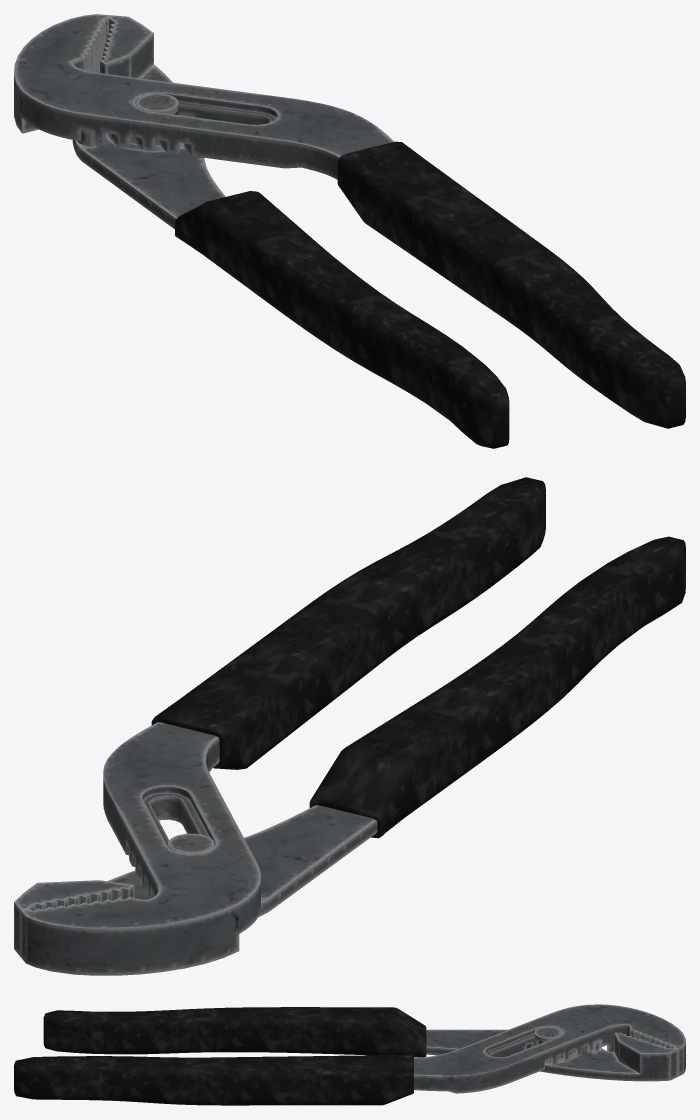
Rendered from tongue_groove_pliers.glb.
The picture shows the model from 3 angles, top to bottom: view 1: azimuth 30°, elevation 25°; view 2: azimuth 150°, elevation 25°; view 3: azimuth 270°, elevation 25°; orthographic projection. The views are drawn at different scales.
Visible parts, largest first — view 1: tongue_groove_pliers_l; view 2: tongue_groove_pliers_l; view 3: tongue_groove_pliers_l.
Boxes of the visible parts, x1,y1,x2,y2 form: tongue_groove_pliers_l: [14, 14, 685, 448]; tongue_groove_pliers_l: [14, 477, 685, 975]; tongue_groove_pliers_l: [14, 1004, 685, 1105].
Size of the model in its own units: 0.0625 by 0.0139 by 0.2444.
Materials: 1 (1 with a texture image).
